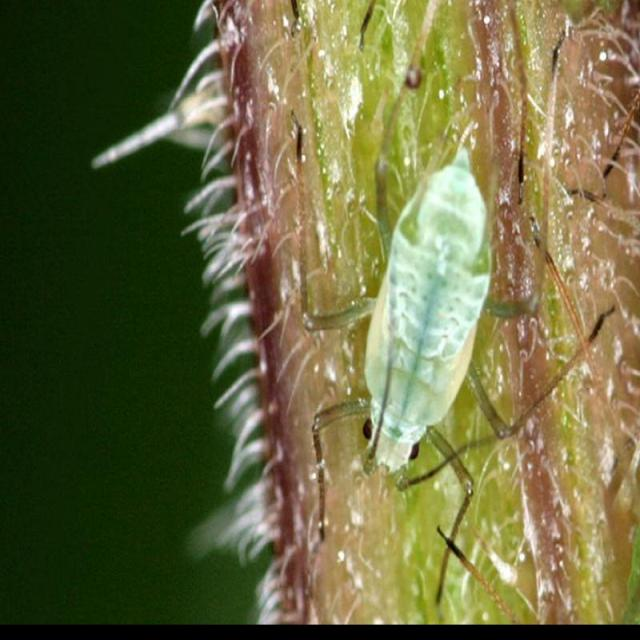Aphids: (312, 123, 621, 602)
